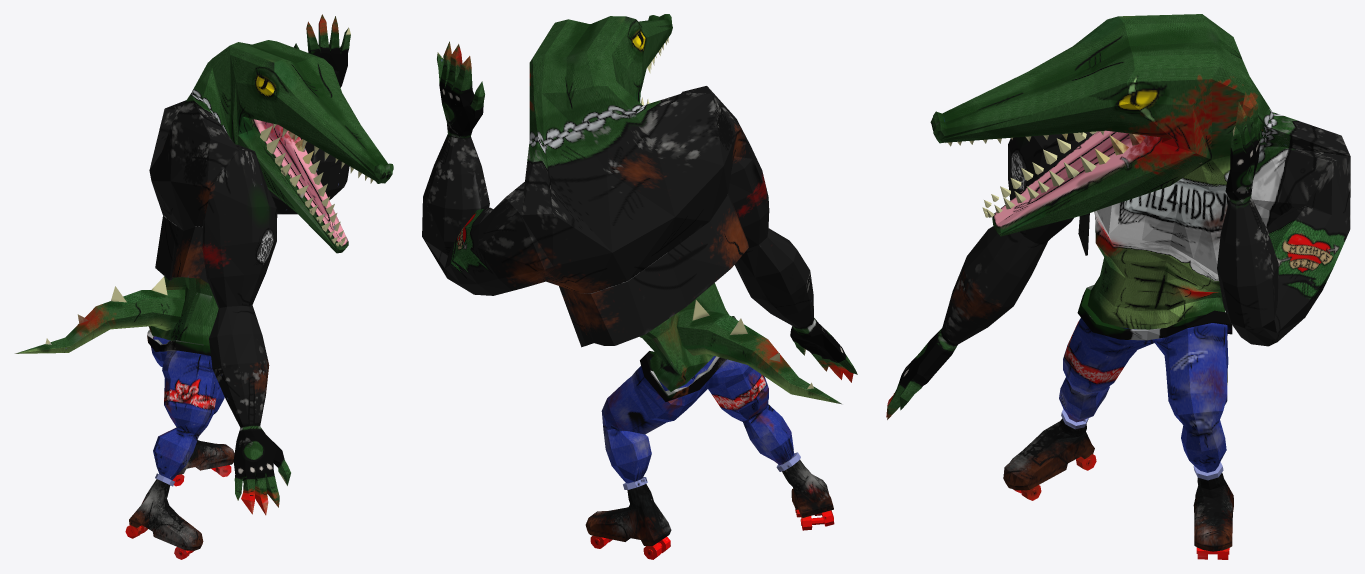
File: cocodrilaBonesSelect_000034.obj
3 renders of one model, left to right at view 1: azimuth 30°, elevation 25°; view 2: azimuth 150°, elevation 25°; view 3: azimuth 270°, elevation 25°, orthographic. The views are drawn at different scales.
Visible parts, largest first — view 1: Crocodile.002_Cylinder.002; view 2: Crocodile.002_Cylinder.002; view 3: Crocodile.002_Cylinder.002.
Part boxes in pixels (<box>): Crocodile.002_Cylinder.002: <box>14,14,393,559</box>; Crocodile.002_Cylinder.002: <box>422,14,857,559</box>; Crocodile.002_Cylinder.002: <box>886,14,1350,559</box>.
Size of the model in its own units: 5.22 by 6.2 by 4.68.
